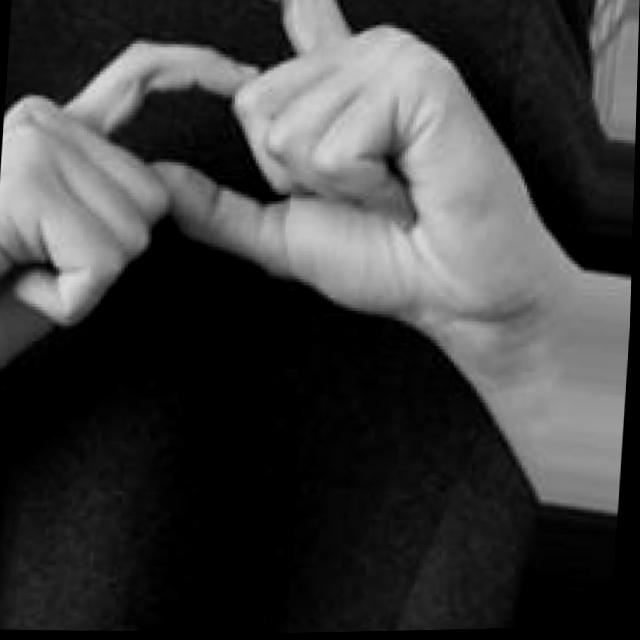G: (0, 0, 536, 402)
